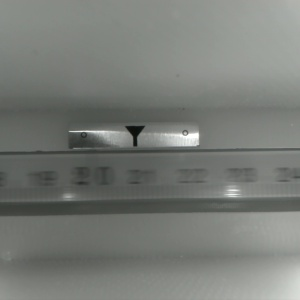finger: (123, 126, 145, 144)
